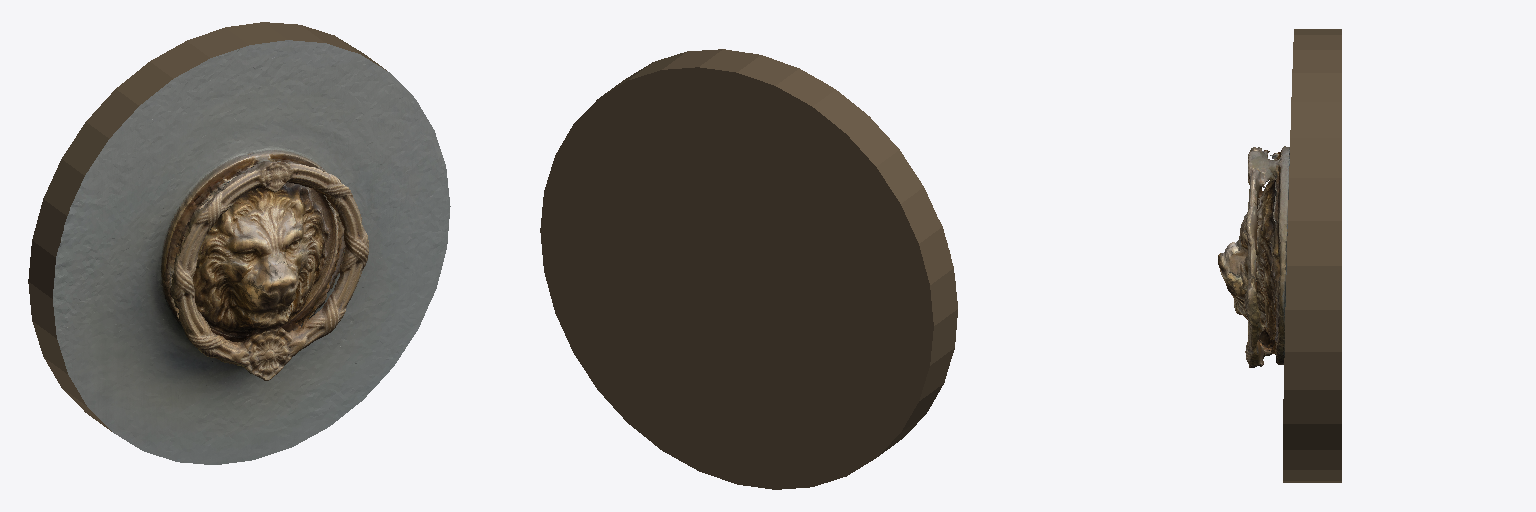
3 views of the same model, side by side, from view 1: azimuth 30°, elevation 25°; view 2: azimuth 150°, elevation 25°; view 3: azimuth 270°, elevation 25° (orthographic).
Parts seen in each view (by area): view 1: golden-lion-knocker; view 2: golden-lion-knocker; view 3: golden-lion-knocker.
Boxes of the visible parts, x1=… form: golden-lion-knocker: x1=28, y1=22, x2=450, y2=464; golden-lion-knocker: x1=540, y1=49, x2=957, y2=489; golden-lion-knocker: x1=1218, y1=29, x2=1341, y2=482.
Size of the model in its own units: 2.63 by 2.63 by 0.7145.
Materials: 2 (1 with a texture image).